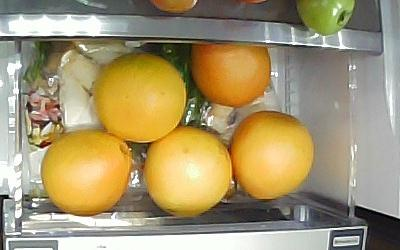grapefruit: (142, 124, 232, 217), (93, 51, 186, 141), (39, 128, 131, 216), (227, 109, 314, 200), (190, 42, 271, 106)
